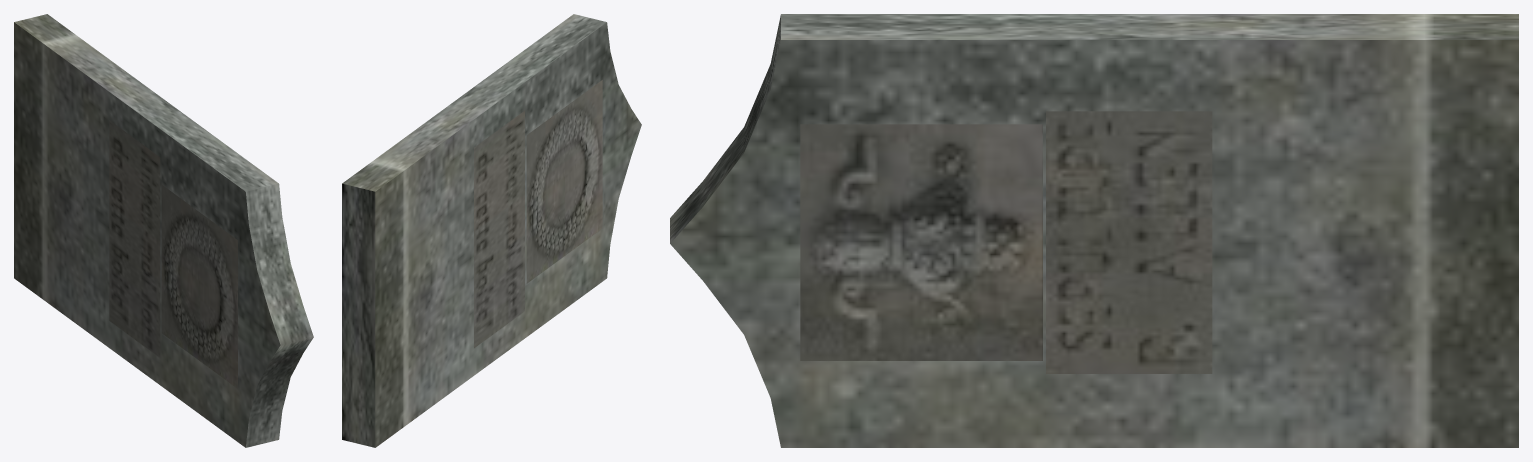
The model's file is prop_tombstone8.glb.
3 renders of one model, left to right at view 1: azimuth 30°, elevation 25°; view 2: azimuth 150°, elevation 25°; view 3: azimuth 270°, elevation 25°, orthographic. The views are drawn at different scales.
Size of the model in its own units: 3.42 by 23.35 by 44.01.
1 material, 1 textured.
